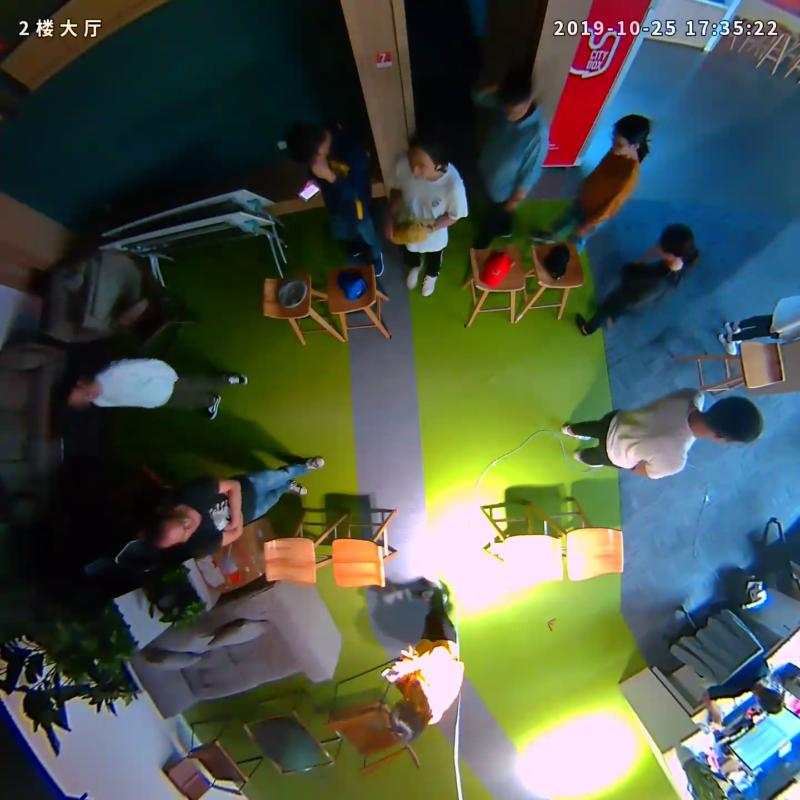head: (705, 396, 762, 446), (141, 501, 196, 549), (408, 135, 453, 182), (289, 121, 336, 164), (497, 71, 537, 121), (391, 697, 432, 742), (52, 376, 103, 412), (611, 114, 651, 158), (657, 224, 693, 266)
